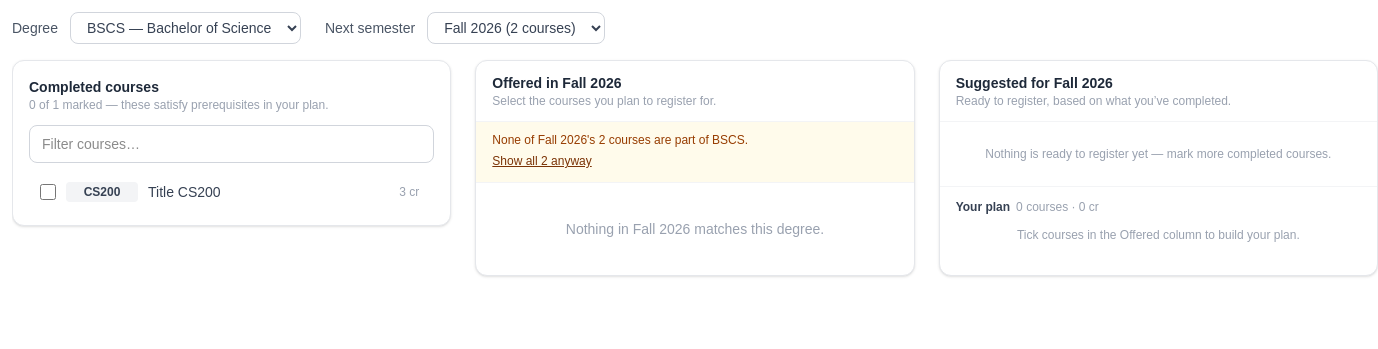
OfferingPlanner — out-of-degree offerings › re-scopes to the new degree when the degree changes
Click the button "Show all 2 anyway": (542, 161) [492,153,592,169]
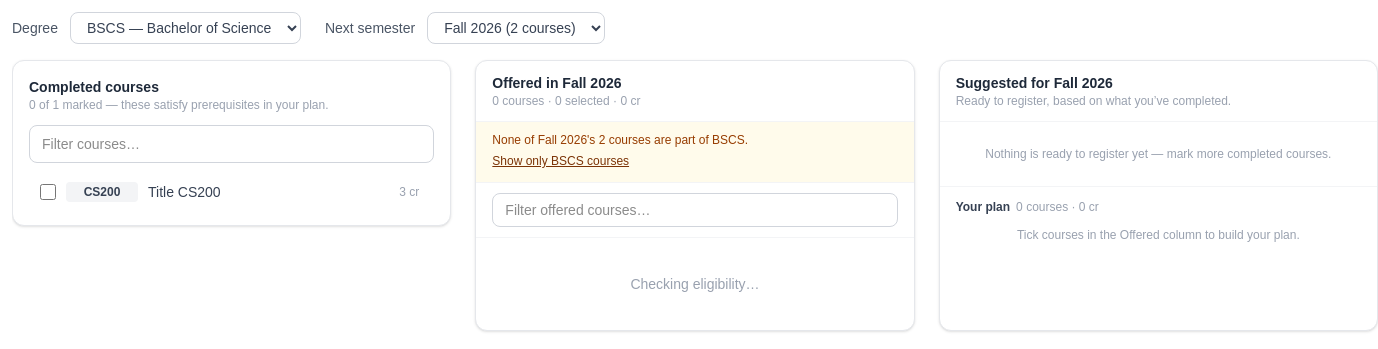
Expected: the button "Show only BSCS courses" is shown, [492,153,629,169]
Select "BSCS — Bachelor of Science" in the dropdown labelled "Degree": (185, 28) [70,12,301,44]
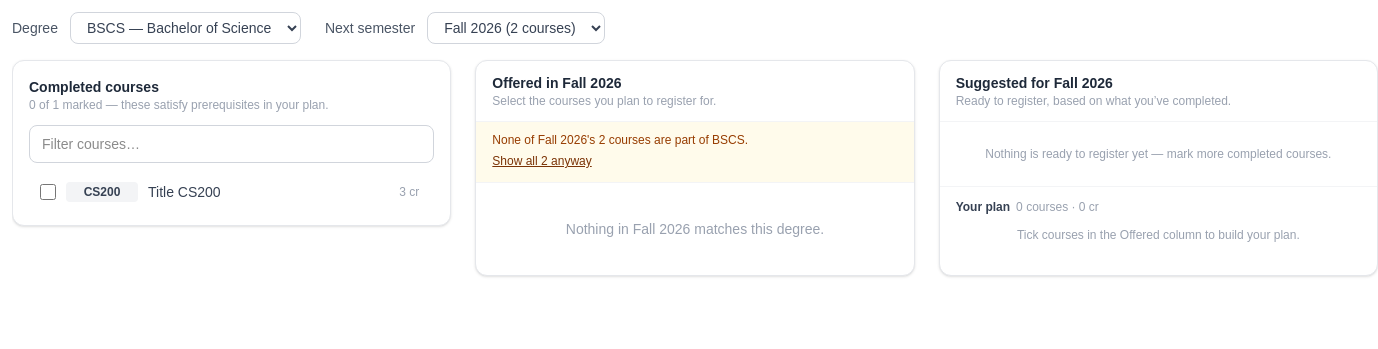
Expected: the button "Show all 2 anyway" is shown, [492,153,592,169]
